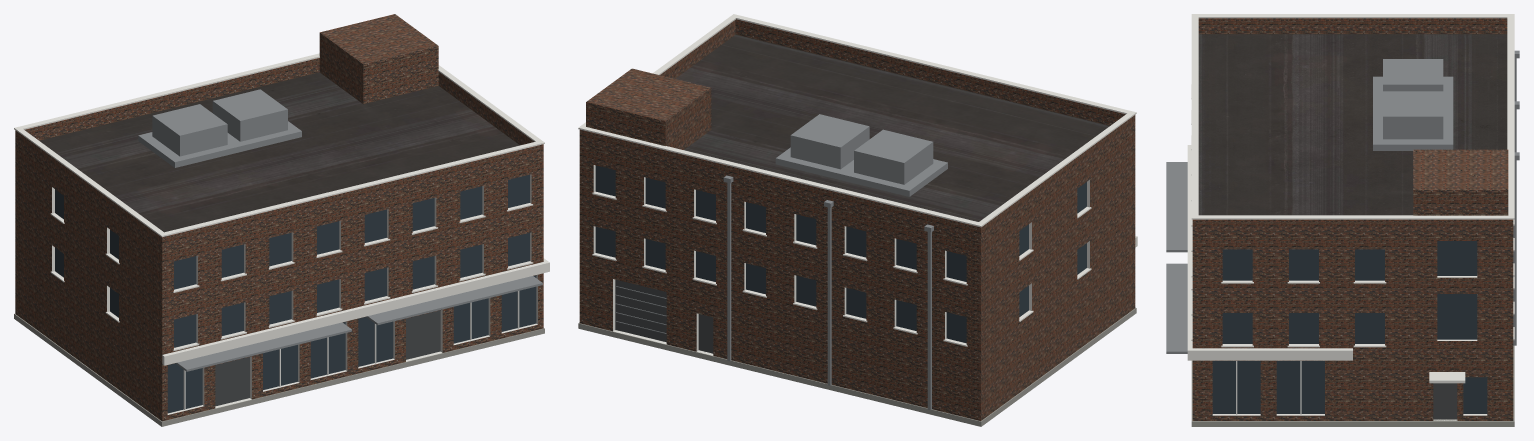
The model's file is m1-corner.glb.
The picture shows the model from 3 angles, left to right: view 1: azimuth 30°, elevation 25°; view 2: azimuth 150°, elevation 25°; view 3: azimuth 270°, elevation 25°; orthographic projection. The views are drawn at different scales.
Visible parts, largest first — view 1: m1-corner; view 2: m1-corner; view 3: m1-corner.
Part boxes in pixels (x1,y1,x2,y2): m1-corner: (14, 14, 549, 426); m1-corner: (578, 14, 1137, 426); m1-corner: (1166, 14, 1519, 426).
Size of the model in its own units: 25.06 by 12.9 by 17.6.
8 materials, 2 textured.
